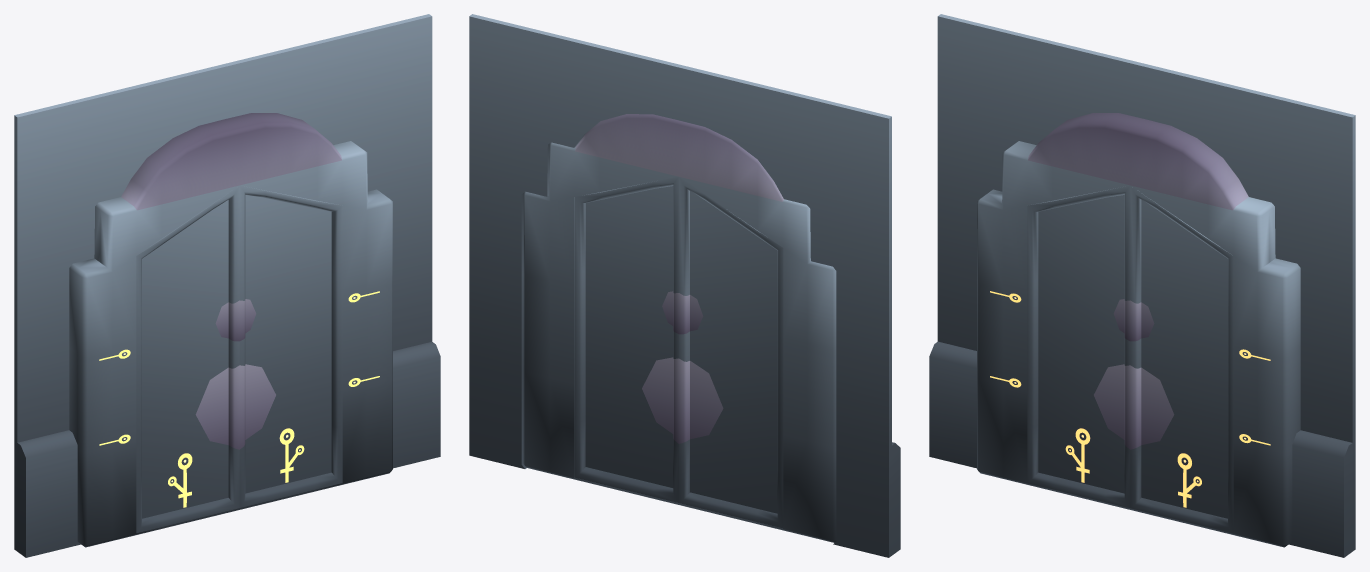
The model's file is Door.fbx.
3 views of the same model, side by side, from view 1: azimuth 30°, elevation 25°; view 2: azimuth 150°, elevation 25°; view 3: azimuth 330°, elevation 25° (orthographic).
Parts seen in each view (by area): view 1: Gate, Gate.002, Gate.004, Gate.006; view 2: Gate, Gate.002, Gate.004, Gate.006; view 3: Gate, Gate.002, Gate.006, Gate.004.
Part boxes in pixels (<box>): Gate: <box>14,14,440,557</box>; Gate.002: <box>69,113,392,547</box>; Gate.004: <box>239,185,342,507</box>; Gate.006: <box>136,185,239,533</box>; Gate: <box>469,14,900,557</box>; Gate.002: <box>523,114,836,542</box>; Gate.004: <box>574,176,678,502</box>; Gate.006: <box>679,177,783,528</box>; Gate: <box>929,14,1355,557</box>; Gate.002: <box>977,113,1300,547</box>; Gate.006: <box>1027,185,1130,507</box>; Gate.004: <box>1130,185,1233,533</box>.
Size of the model in its own units: 300 by 300 by 22.93.
